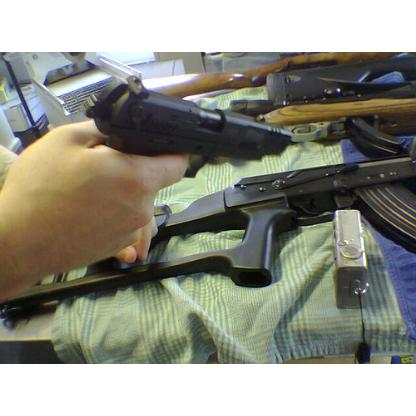gun: (78, 158, 414, 316), (77, 76, 289, 244)
